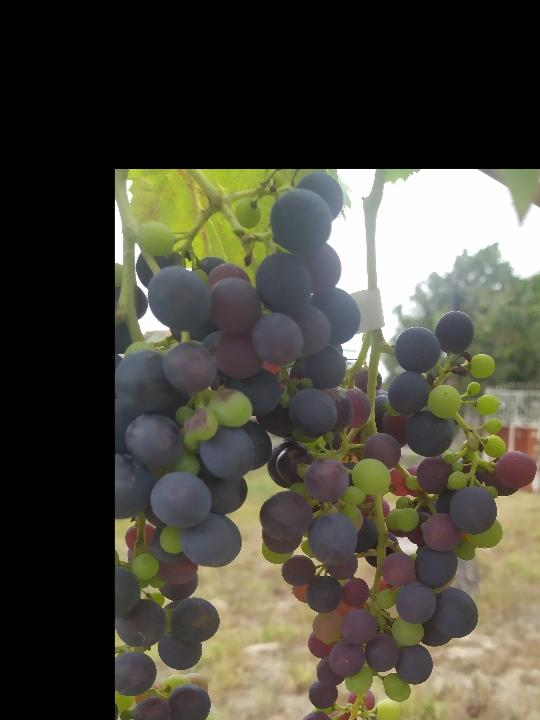grape: (115, 174, 364, 720), (255, 305, 540, 720)
